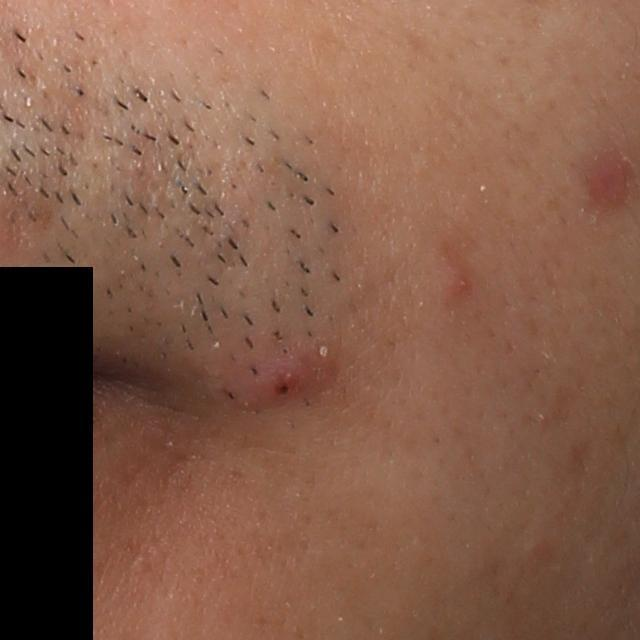papule: (246, 353, 310, 411), (591, 161, 632, 211)
